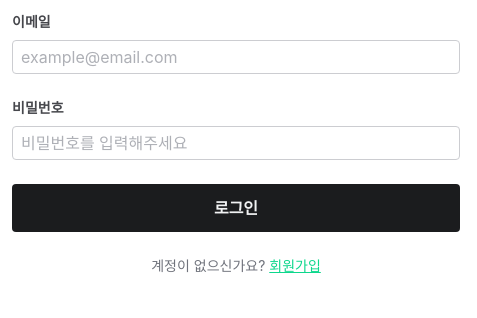
Scenario: SigninForm - Business Logic › Form Validation › shows validation error when password is empty
Type "test@test.com" into the field labelled "이메일" at (236, 57), box [12,40,460,74]
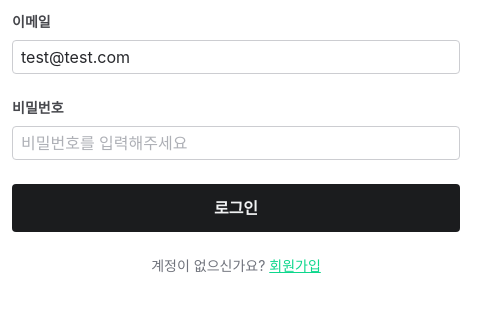
Click the button "로그인" at (236, 208), box [12,184,460,232]
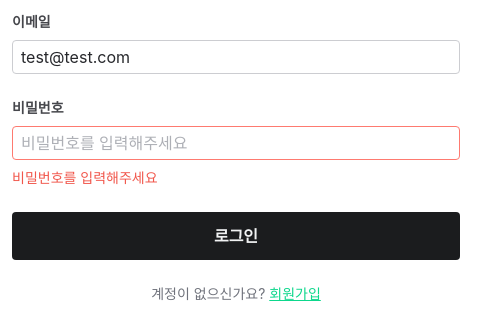
Expected: the text "비밀번호를 입력해주세요" is shown, [12,169,158,186]
